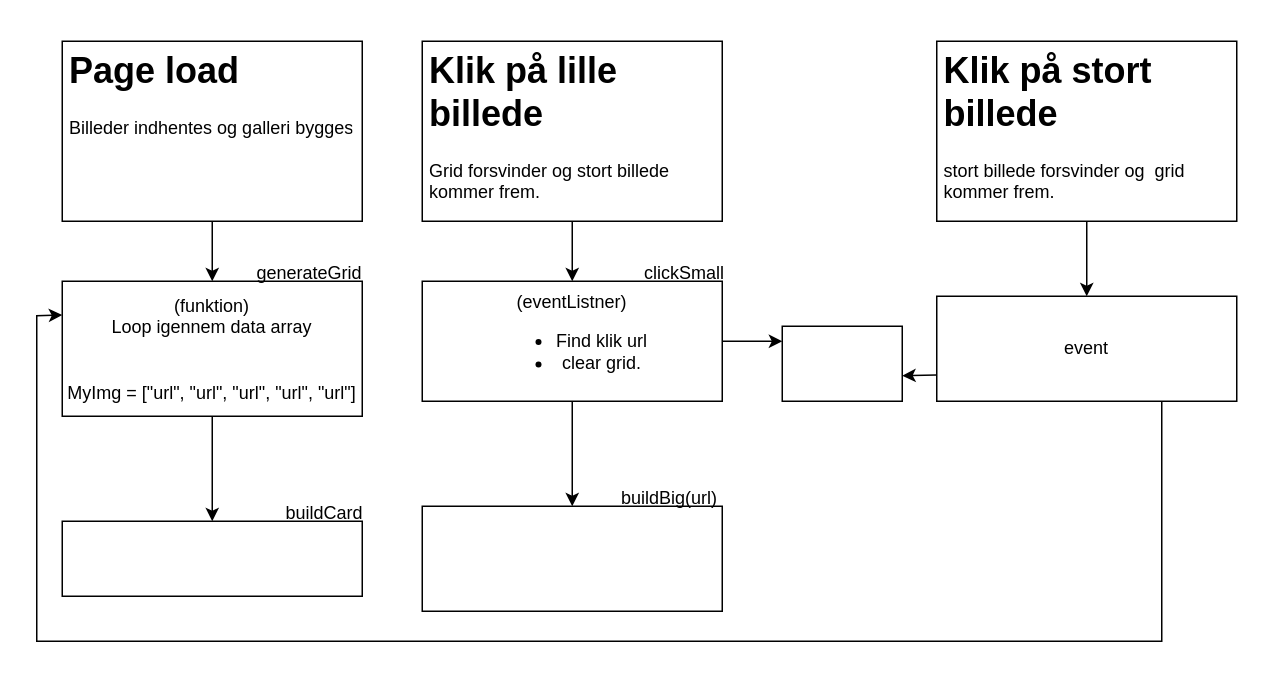
The diagram is 1263 pixels wide and 680 high, and some of its shapes have lost their labels. The centre of each missing label's shape, as x and y in pixels:
"(funktion) Byg galleri card" belongs at point (211, 558).
"Byg stort billede" belongs at point (571, 558).
"Clear app" belongs at point (841, 363).
